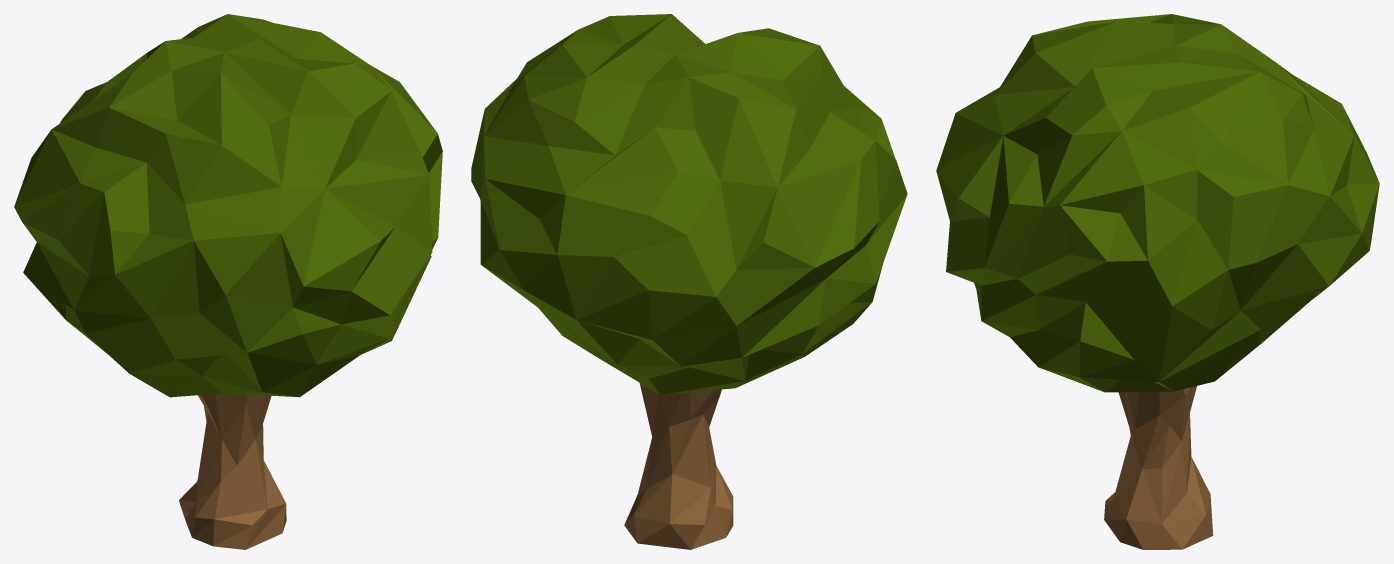
The model's file is big_tree.fbx.
The picture shows the model from 3 angles, left to right: view 1: azimuth 30°, elevation 25°; view 2: azimuth 150°, elevation 25°; view 3: azimuth 270°, elevation 25°; orthographic projection. The views are drawn at different scales.
Parts seen in each view (by area): view 1: big_tree; view 2: big_tree; view 3: big_tree.
Boxes of the visible parts, bbox=[...] form: big_tree: bbox=[14, 14, 442, 549]; big_tree: bbox=[471, 14, 907, 549]; big_tree: bbox=[936, 14, 1379, 549].
Size of the model in its own units: 474 by 573 by 471.
